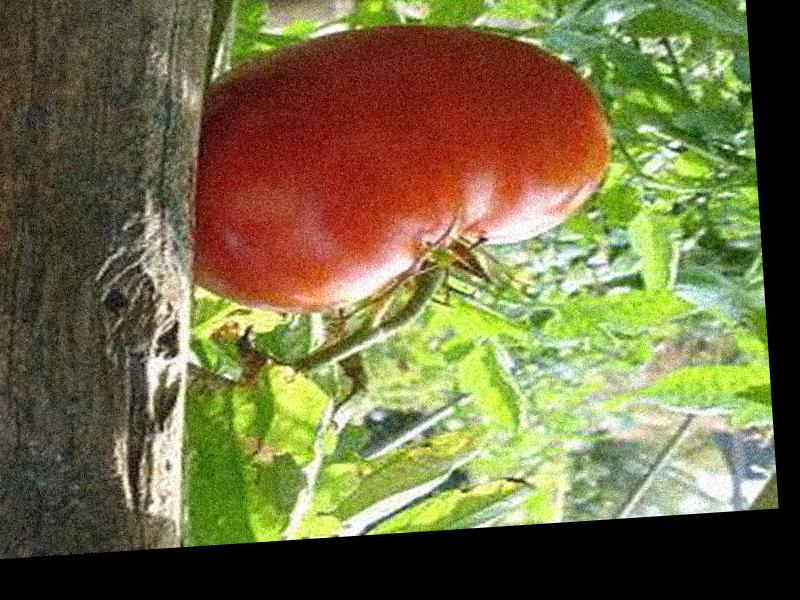Tomato: (172, 15, 620, 320)
